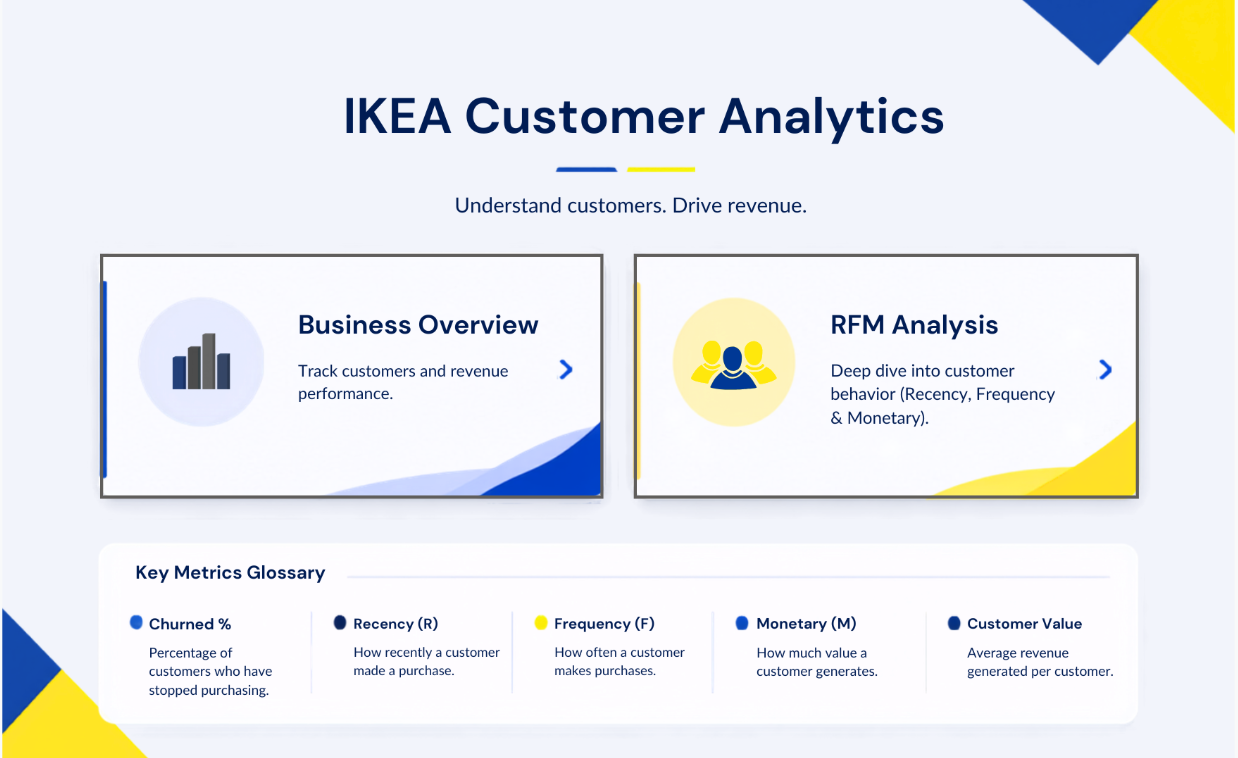

What the dashboard file says about the page in this screenshot:
{"tool":"powerbi","page":{"name":"Home","canvas":[1280,720],"ordinal":0},"visuals":[{"type":"image","box":[0,0,1280,720],"z":0},{"type":"actionButton","box":[157.6,245.2,468.1,227.7],"z":1000},{"type":"actionButton","box":[654.3,245.2,469.7,227.7],"z":2000}]}

Visuals, with their boxes on the page's 1280x720 design canvas (x1, y1, x2, y2). These are canvas units, not pixel positions in the 1238x758 screenshot, which may show the page scaled, cropped or inside an application window:
image: [0, 0, 1280, 720]
actionButton: [158, 245, 626, 473]
actionButton: [654, 245, 1124, 473]
